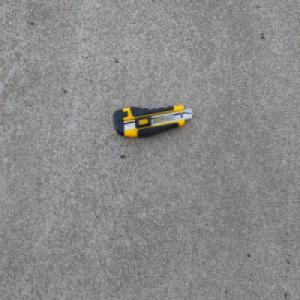Cutter: (112, 103, 193, 138)
